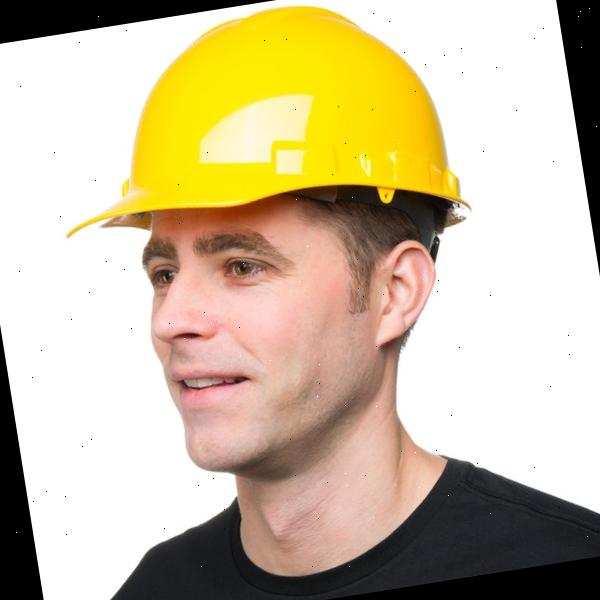helmet: (31, 0, 483, 288)
no_wear: (74, 433, 600, 600)
